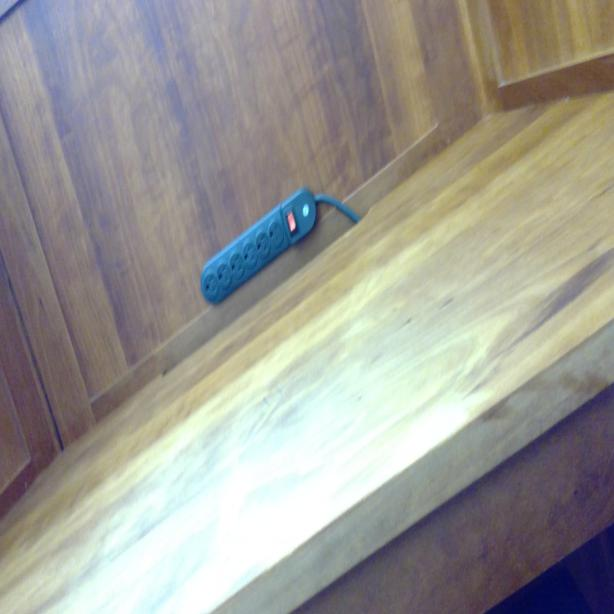typeb: (268, 221, 284, 244), (257, 232, 272, 256), (242, 242, 256, 267), (216, 262, 230, 286), (231, 254, 244, 278), (204, 274, 217, 298)
